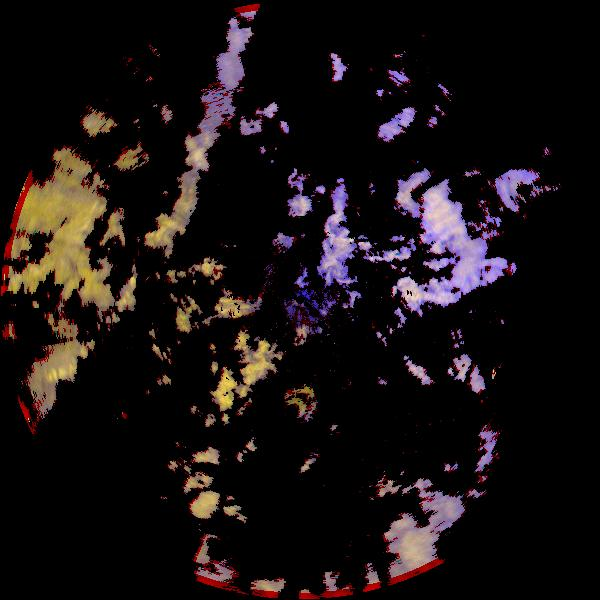roost: (276, 383, 321, 428)
